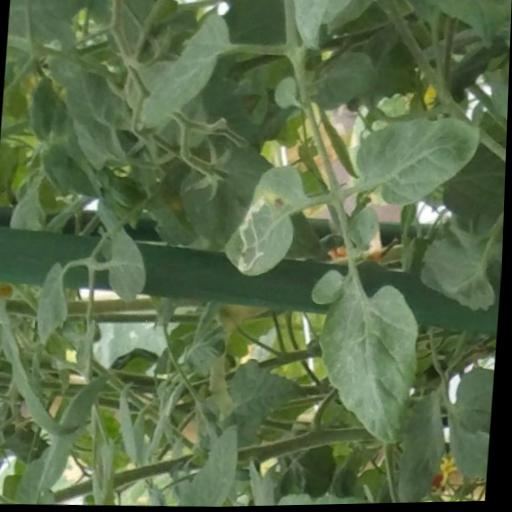Healthy: (312, 275, 425, 455), (346, 109, 485, 213), (137, 10, 232, 132), (103, 225, 152, 305)
Leaf_Miner: (221, 163, 308, 278)
